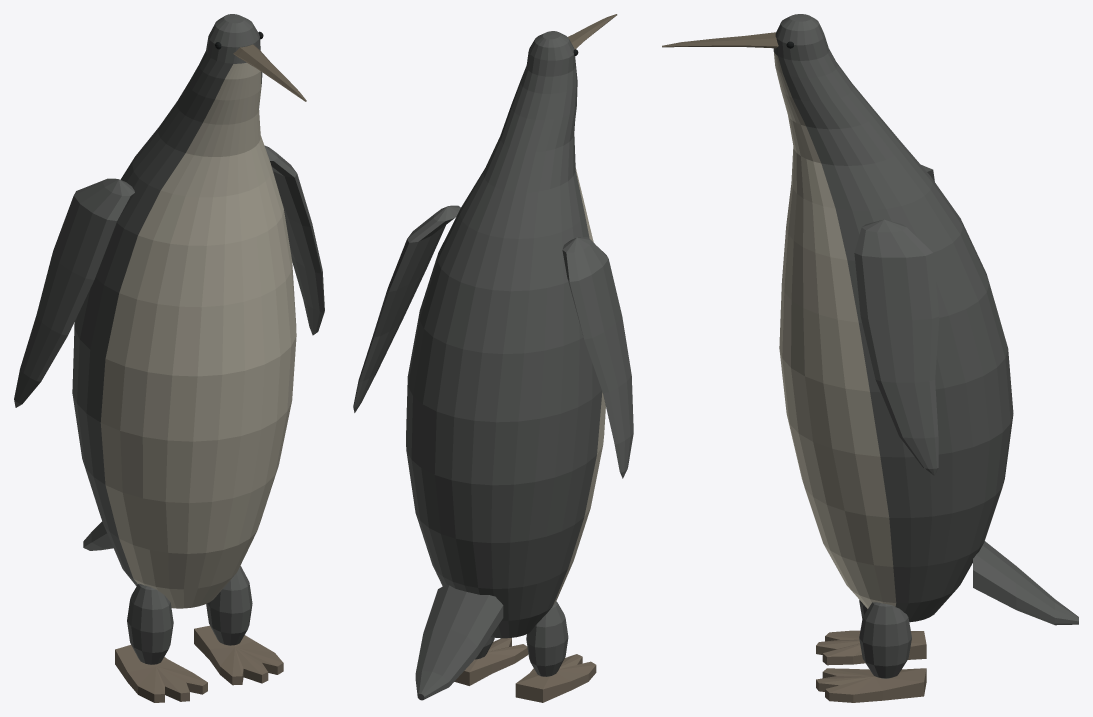
The picture shows the model from 3 angles, left to right: view 1: azimuth 30°, elevation 25°; view 2: azimuth 150°, elevation 25°; view 3: azimuth 270°, elevation 25°; orthographic projection. The views are drawn at different scales.
Parts seen in each view (by area): view 1: continuous-trunk-neck-cranium, right-powerful-flipper, left-powerful-flipper, right-webbed-foot, left-webbed-foot, right-short-shank, left-short-shank, spear-upper-bill, short-tapered-tail; view 2: continuous-trunk-neck-cranium, right-powerful-flipper, short-tapered-tail, left-powerful-flipper, right-short-shank, right-webbed-foot, left-webbed-foot, spear-upper-bill; view 3: continuous-trunk-neck-cranium, left-powerful-flipper, short-tapered-tail, left-short-shank, left-webbed-foot, right-webbed-foot, spear-upper-bill.
Boxes of the visible parts, <box> form: continuous-trunk-neck-cranium: <box>72,14,296,608</box>; right-powerful-flipper: <box>14,178,134,407</box>; left-powerful-flipper: <box>264,145,324,335</box>; right-webbed-foot: <box>115,645,207,702</box>; left-webbed-foot: <box>194,625,283,685</box>; right-short-shank: <box>127,583,173,664</box>; left-short-shank: <box>206,566,252,645</box>; spear-upper-bill: <box>233,44,306,100</box>; short-tapered-tail: <box>83,521,113,550</box>; continuous-trunk-neck-cranium: <box>406,31,605,638</box>; right-powerful-flipper: <box>562,237,633,478</box>; short-tapered-tail: <box>415,584,503,700</box>; left-powerful-flipper: <box>353,205,460,412</box>; right-short-shank: <box>526,601,568,676</box>; right-webbed-foot: <box>515,654,596,702</box>; left-webbed-foot: <box>454,638,528,685</box>; spear-upper-bill: <box>568,14,616,49</box>; continuous-trunk-neck-cranium: <box>773,14,1013,622</box>; left-powerful-flipper: <box>854,219,939,475</box>; short-tapered-tail: <box>973,541,1078,625</box>; left-short-shank: <box>859,602,911,678</box>; left-webbed-foot: <box>816,668,926,702</box>; right-webbed-foot: <box>816,630,926,665</box>; spear-upper-bill: <box>662,32,778,46</box>.
Size of the model in its own units: 0.6915 by 1.5 by 0.867.
